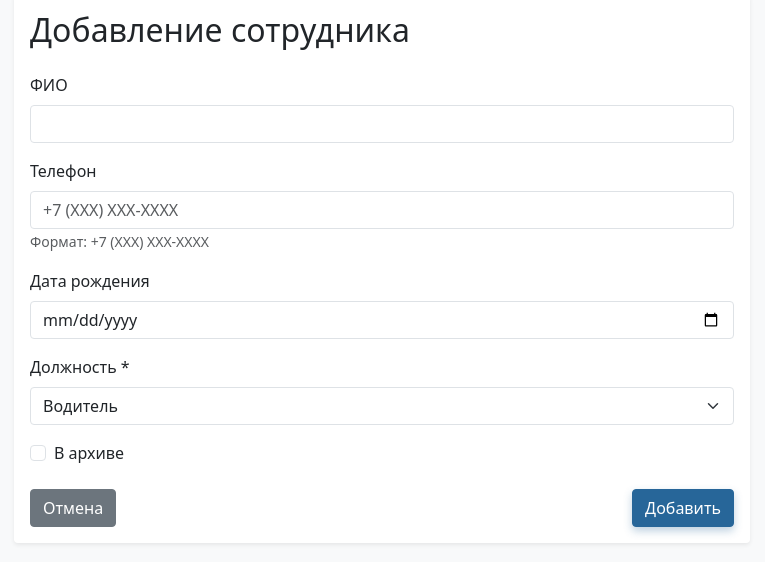
Test: EmployeeEdit › должен форматировать телефонный номер корректно
Type "9991234567" into the field labelled "Телефон". click: coordinates (382, 210)
box: [30,191,734,229]
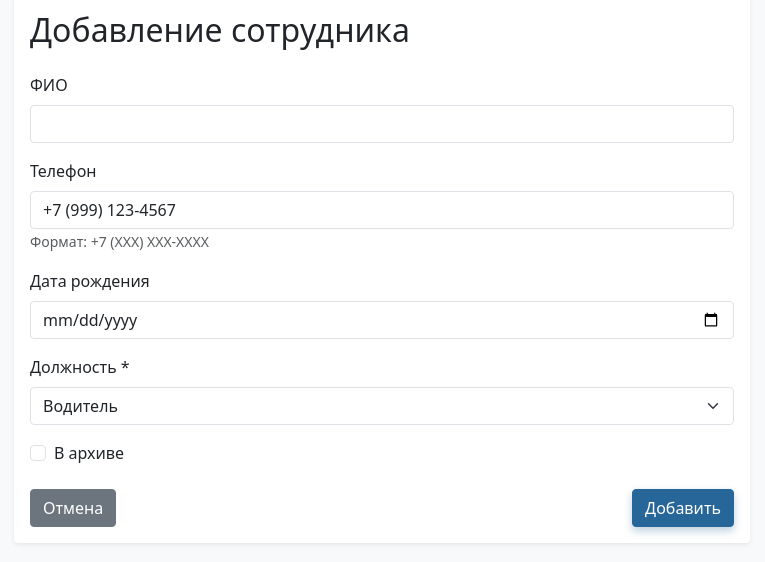
Expected: the field labelled "Телефон" holds "+7 (999) 123-4567"
Replace the text in the field labelled "Телефон" with "8999". click: coordinates (382, 210)
box: [30,191,734,229]
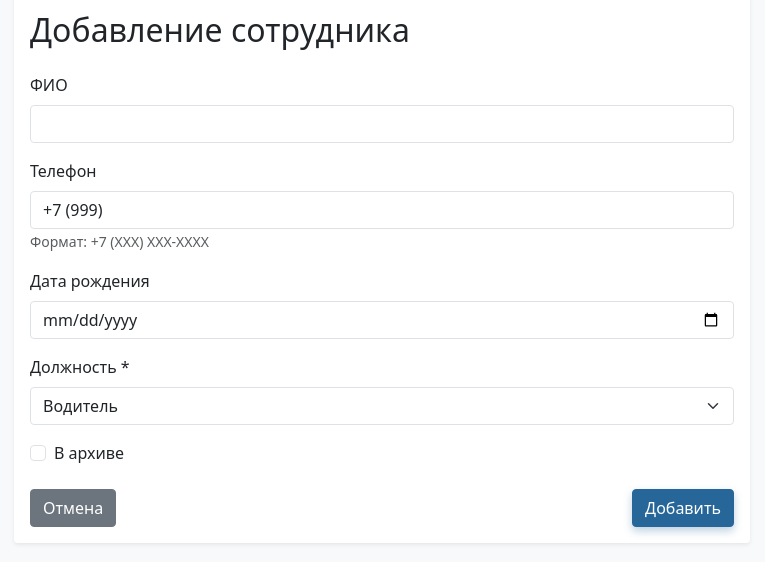
Expected: the field labelled "Телефон" holds "+7 (999)", [30,191,734,229]
